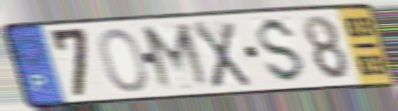7: (46, 27, 92, 101)
8: (302, 14, 350, 82)
M: (138, 21, 215, 94)
O: (97, 26, 150, 94)
S: (256, 15, 309, 86)
X: (190, 19, 254, 90)
